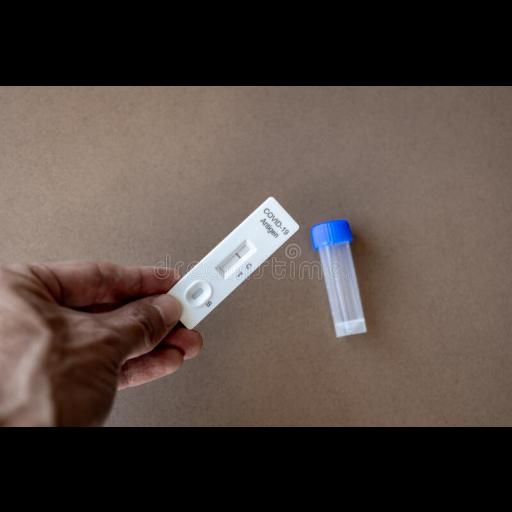Neg: (160, 194, 301, 330)
